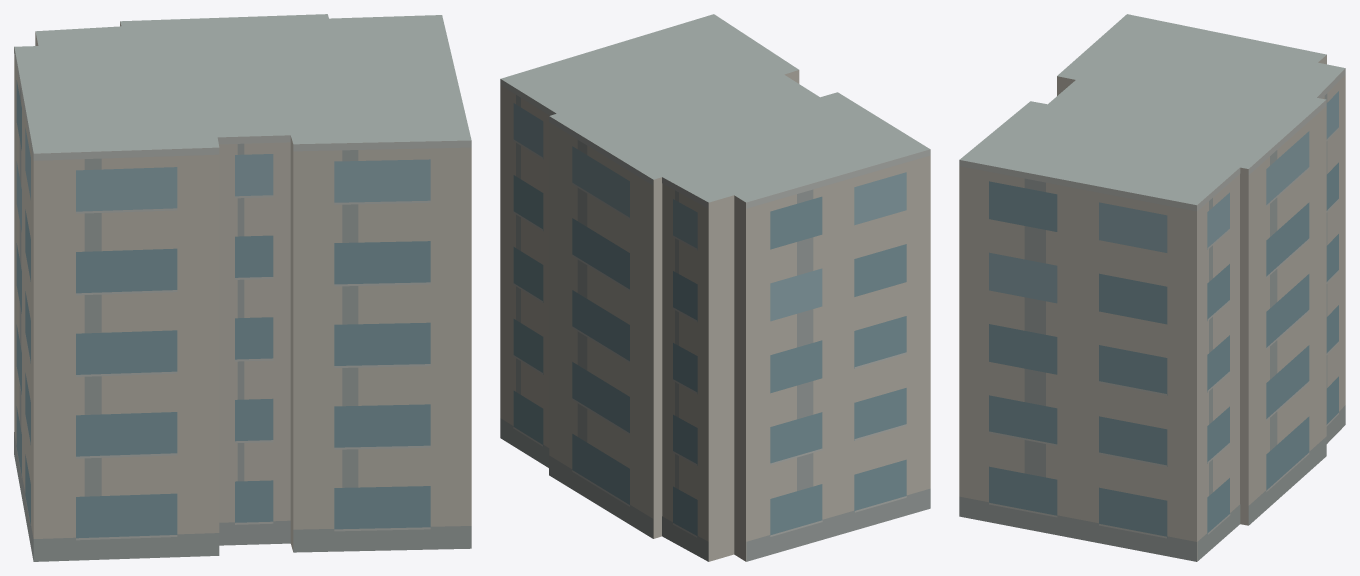
The model's file is survey-upis-32800274.glb.
3 renders of one model, left to right at view 1: azimuth 30°, elevation 25°; view 2: azimuth 150°, elevation 25°; view 3: azimuth 270°, elevation 25°, orthographic. The views are drawn at different scales.
Parts seen in each view (by area): view 1: survey-upis-32800274.tmp; view 2: survey-upis-32800274.tmp; view 3: survey-upis-32800274.tmp.
Part boxes in pixels (x1=…): survey-upis-32800274.tmp: x1=14, y1=14, x2=471, y2=561; survey-upis-32800274.tmp: x1=500, y1=14, x2=930, y2=561; survey-upis-32800274.tmp: x1=959, y1=14, x2=1345, y2=561.
Bounding box in the file's own units: 16.13 × 14.02 × 13.77.
